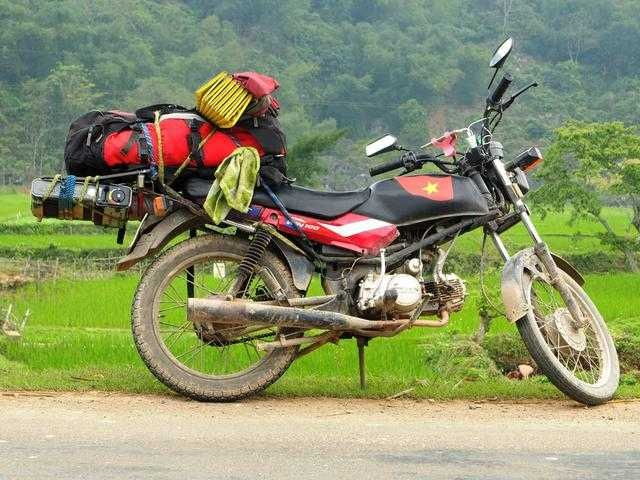motorbike: (110, 36, 622, 406)
